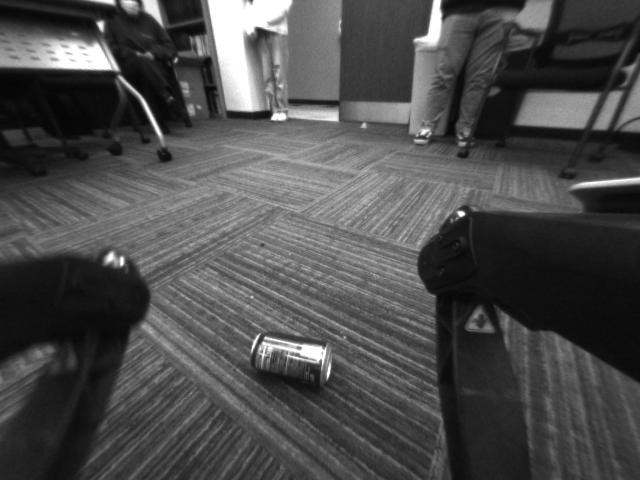can: (246, 324, 344, 397)
